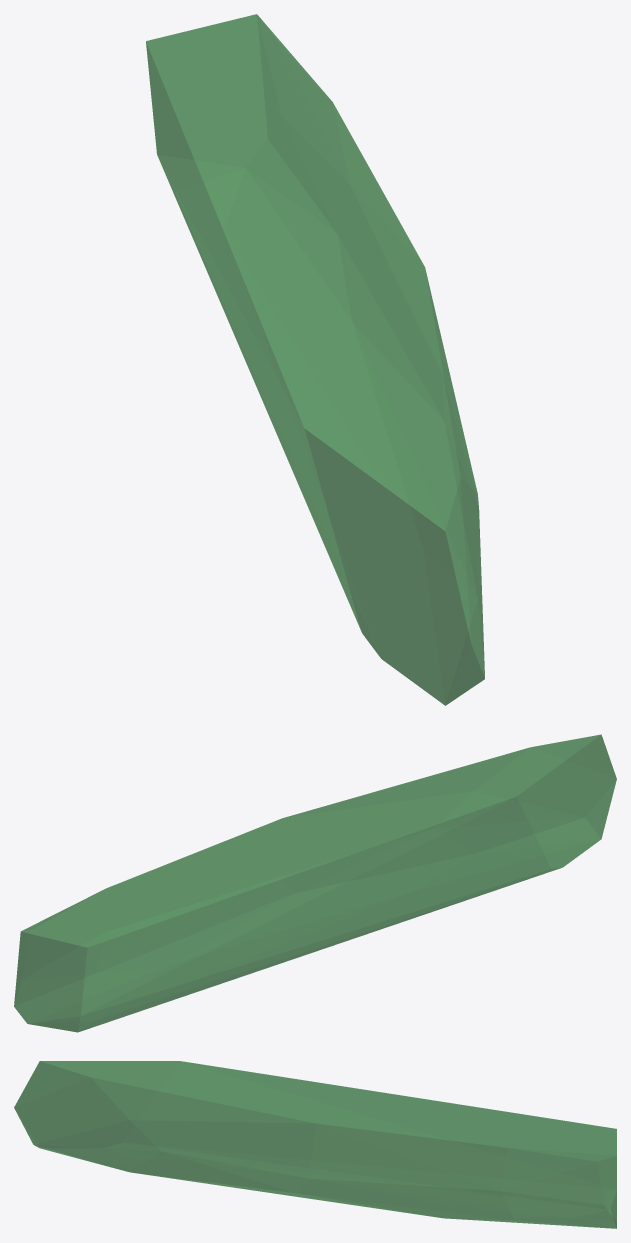
3 views of the same model, one above another, from view 1: azimuth 30°, elevation 25°; view 2: azimuth 150°, elevation 25°; view 3: azimuth 270°, elevation 25° (orthographic). The views are drawn at different scales.
Parts seen in each view (by area): view 1: Shape_IndexedFaceSet.003_Shape_IndexedFaceSet.7609; view 2: Shape_IndexedFaceSet.003_Shape_IndexedFaceSet.7609; view 3: Shape_IndexedFaceSet.003_Shape_IndexedFaceSet.7609.
Boxes of the visible parts, x1,y1,x2,y2 form: Shape_IndexedFaceSet.003_Shape_IndexedFaceSet.7609: (146,14,484,705); Shape_IndexedFaceSet.003_Shape_IndexedFaceSet.7609: (14,734,616,1032); Shape_IndexedFaceSet.003_Shape_IndexedFaceSet.7609: (14,1061,616,1228).
Bounding box in the file's own units: 0.0736 × 0.0307 × 0.1922.
